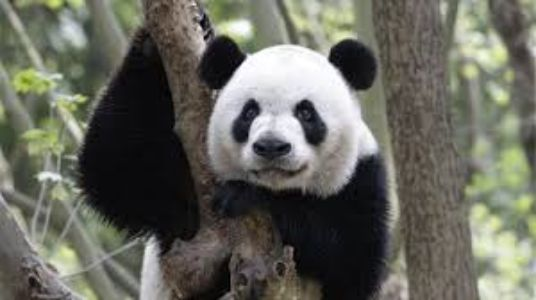bear: (90, 8, 409, 277)
